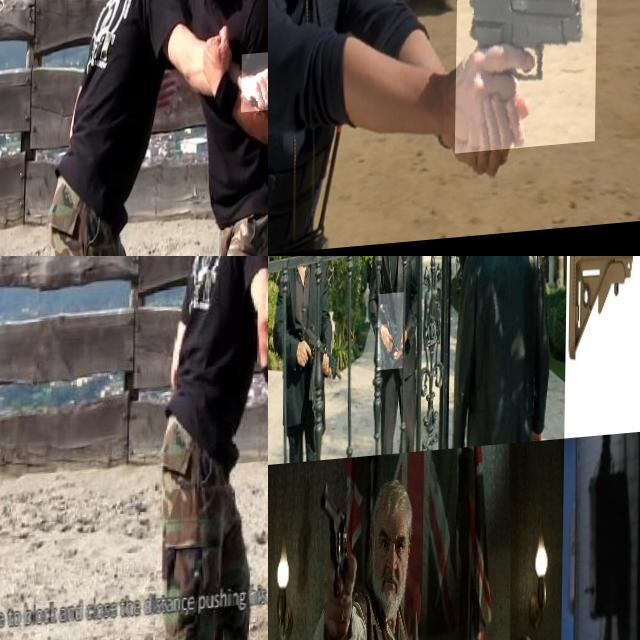-: (241, 56, 268, 121)
gun-knife-thesis - v11 Yolov5 augmented: (457, 0, 599, 162), (317, 477, 356, 640), (296, 314, 344, 416), (378, 295, 404, 373)
